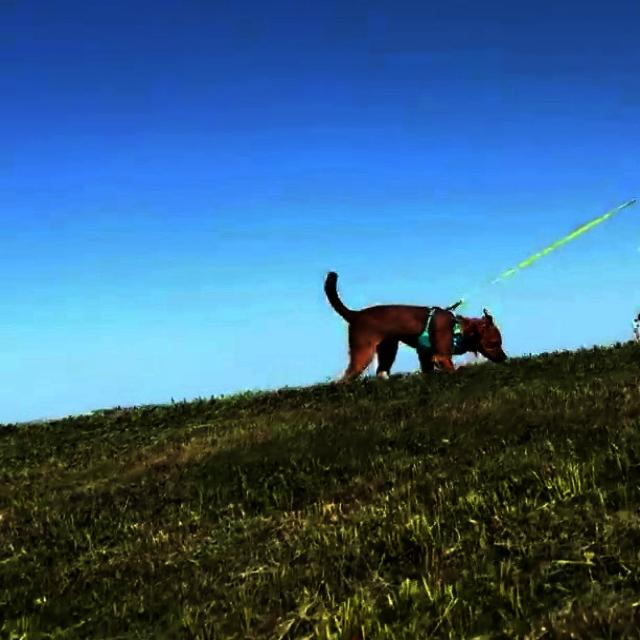Dog: (324, 271, 508, 384)
